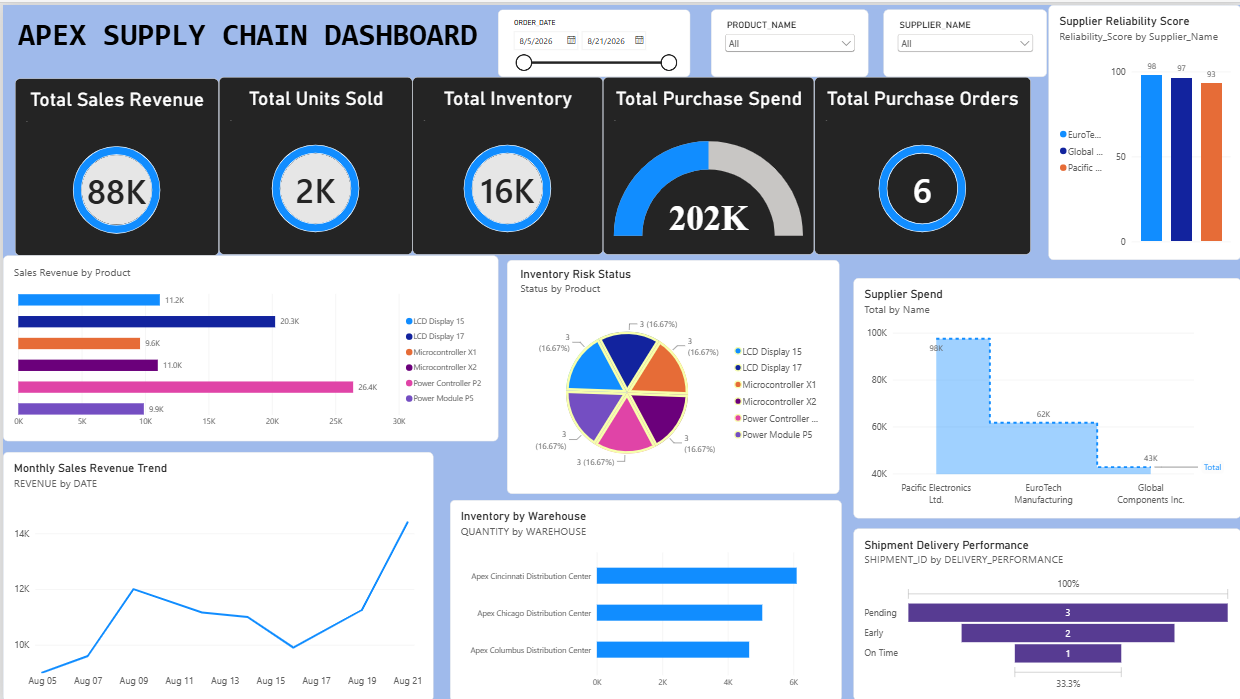

This screenshot's page, from the dashboard's own definition file:
{"tool":"powerbi","page":{"name":"Page 1","canvas":[1920,1080],"ordinal":0},"visuals":[{"type":"donutChart","title":"Total Sales Revenue","fields":{"Y":["Sum(sales_analysis.SALES_REVENUE)"]},"box":[18.2,113.6,315.7,274.8],"z":0},{"type":"donutChart","title":"Total Units Sold","fields":{"Y":["Sum(sales_analysis.QUANTITY_SOLD)"]},"box":[335,112.5,300,275],"z":1000},{"type":"donutChart","title":"Total Inventory","fields":{"Y":["Sum(inventory_risk.QUANTITY_ON_HAND)"]},"box":[635,112.5,295,275],"z":2000},{"type":"gauge","title":"Total Purchase Spend","fields":{"Y":["Sum(supplier_performance.TOTAL_SPEND)"]},"box":[930,112.5,327.5,275],"z":3000},{"type":"textbox","box":[22.5,17.5,727.5,70],"z":4000},{"type":"clusteredBarChart","fields":{"Series":["sales_analysis.PRODUCT_NAME"],"Y":["Sum(sales_analysis.SALES_REVENUE)"]},"box":[0,388,768,288],"z":5000},{"type":"clusteredColumnChart","title":"Supplier Reliability Score","fields":{"Series":["supplier_performance.SUPPLIER_NAME"],"Y":["Sum(supplier_performance.RELIABILITY_SCORE)"]},"box":[1620,0,300,395],"z":6000},{"type":"funnel","title":"Shipment Delivery Performance","fields":{"Category":["shipment_performance.DELIVERY_PERFORMANCE"],"Y":["CountNonNull(shipment_performance.SHIPMENT_ID)"]},"box":[1317.5,812.5,602.5,267.5],"z":7000},{"type":"pieChart","title":"Inventory Risk Status","fields":{"Category":["inventory_risk.PRODUCT_NAME"],"Y":["CountNonNull(inventory_risk.INVENTORY_STATUS)"]},"box":[782.5,395,515,362.5],"z":8000},{"type":"slicer","fields":{"Values":["dim_product.PRODUCT_NAME"]},"box":[1097.7,7,244.2,104.7],"z":9000},{"type":"slicer","fields":{"Values":["supplier_performance.SUPPLIER_NAME"]},"box":[1365.1,7,253.5,104.7],"z":10000},{"type":"donutChart","title":"Total Purchase Orders","fields":{"Y":["Sum(supplier_performance.TOTAL_PURCHASE_ORDERS)"]},"box":[1257.5,112.5,335,275],"z":11000},{"type":"slicer","fields":{"Values":["sales_analysis.ORDER_DATE"]},"box":[767.4,7,297.7,104.7],"z":12000},{"type":"lineChart","title":"Monthly Sales Revenue Trend","fields":{"Category":["sales_analysis.ORDER_DATE"],"Y":["Sum(sales_analysis.SALES_REVENUE)"]},"box":[0,692.5,667.5,387.5],"z":13000},{"type":"clusteredBarChart","title":"Inventory by Warehouse","fields":{"Category":["inventory_risk.WAREHOUSE_NAME"],"Y":["Sum(inventory_risk.QUANTITY_ON_HAND)"]},"box":[692.5,767.5,607.5,312.5],"z":14000},{"type":"areaChart","title":"Supplier Spend","fields":{"Category":["supplier_performance.SUPPLIER_NAME"],"Y":["Sum(supplier_performance.TOTAL_SPEND)"]},"box":[1317.5,422.5,602.5,372.5],"z":14001}]}

Visuals, with their boxes in screenshot pixels (x1, y1, x2, y2), scaled from the page's 1920x1080 canvas onto the 1240x699 screenshot:
"Total Sales Revenue" donutChart: rect(12, 74, 216, 251)
"Total Units Sold" donutChart: rect(216, 73, 410, 251)
"Total Inventory" donutChart: rect(410, 73, 601, 251)
"Total Purchase Spend" gauge: rect(601, 73, 812, 251)
textbox: rect(15, 11, 484, 57)
clusteredBarChart - sales_analysis.PRODUCT_NAME x Sum(sales_analysis.SALES_REVENUE): rect(0, 251, 496, 438)
"Supplier Reliability Score" clusteredColumnChart: rect(1046, 0, 1239, 256)
"Shipment Delivery Performance" funnel: rect(851, 526, 1239, 698)
"Inventory Risk Status" pieChart: rect(505, 256, 838, 490)
slicer - dim_product.PRODUCT_NAME: rect(709, 5, 867, 72)
slicer - supplier_performance.SUPPLIER_NAME: rect(882, 5, 1045, 72)
"Total Purchase Orders" donutChart: rect(812, 73, 1028, 251)
slicer - sales_analysis.ORDER_DATE: rect(496, 5, 688, 72)
"Monthly Sales Revenue Trend" lineChart: rect(0, 448, 431, 698)
"Inventory by Warehouse" clusteredBarChart: rect(447, 497, 840, 698)
"Supplier Spend" areaChart: rect(851, 273, 1239, 515)
